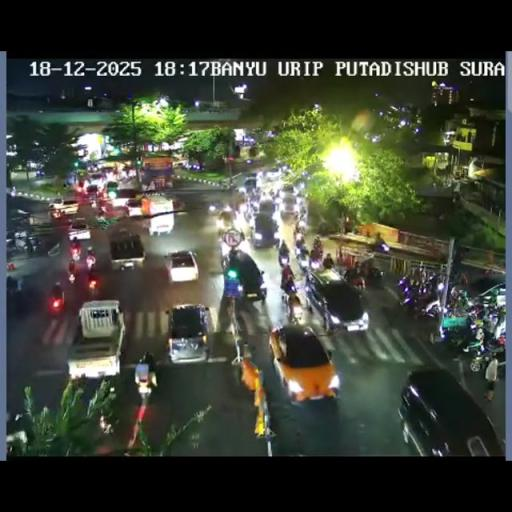Car: (400, 368, 503, 454), (269, 324, 340, 402), (66, 302, 126, 380), (302, 266, 369, 332), (166, 303, 214, 363), (218, 250, 270, 303), (140, 194, 175, 236), (109, 233, 144, 273), (250, 210, 280, 248), (165, 250, 199, 282), (474, 282, 504, 311), (278, 188, 300, 221), (49, 198, 79, 218), (106, 192, 134, 212), (67, 222, 91, 242), (244, 175, 258, 194), (265, 167, 282, 182), (88, 172, 105, 186), (85, 184, 100, 199)
Motorcycle: (440, 315, 478, 353), (6, 410, 34, 454), (400, 282, 434, 316), (480, 320, 505, 354), (282, 282, 303, 321), (448, 286, 470, 314), (134, 366, 155, 394), (361, 263, 383, 287), (464, 302, 486, 323), (218, 233, 233, 259), (295, 245, 310, 267), (98, 414, 113, 435), (6, 276, 20, 298), (280, 266, 294, 287), (87, 268, 99, 290), (372, 240, 390, 254), (6, 236, 20, 254), (214, 213, 228, 230), (310, 254, 323, 272), (67, 264, 78, 284), (242, 204, 254, 222), (95, 214, 110, 228), (278, 249, 290, 266), (52, 281, 63, 299), (297, 201, 307, 220), (312, 235, 322, 254), (250, 188, 261, 205), (25, 237, 35, 255), (294, 179, 306, 194), (226, 182, 237, 198), (70, 246, 80, 262), (86, 254, 96, 270), (322, 256, 333, 269), (296, 222, 306, 236), (236, 227, 245, 242), (98, 202, 107, 216), (459, 272, 468, 286), (270, 187, 279, 200), (90, 199, 98, 211), (221, 181, 229, 193)
